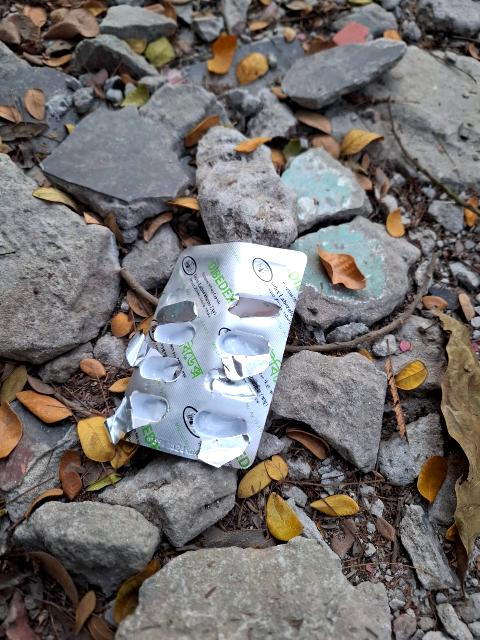medicine: (98, 198, 323, 489)
